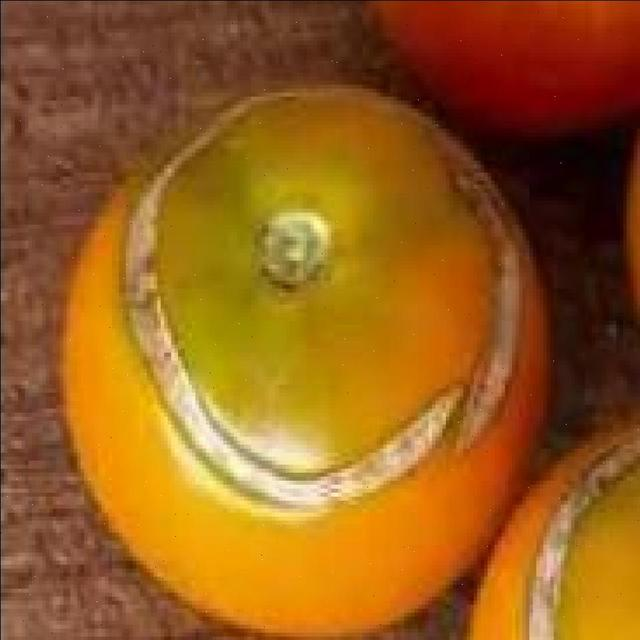Cracking Fruit: (72, 139, 391, 357)
